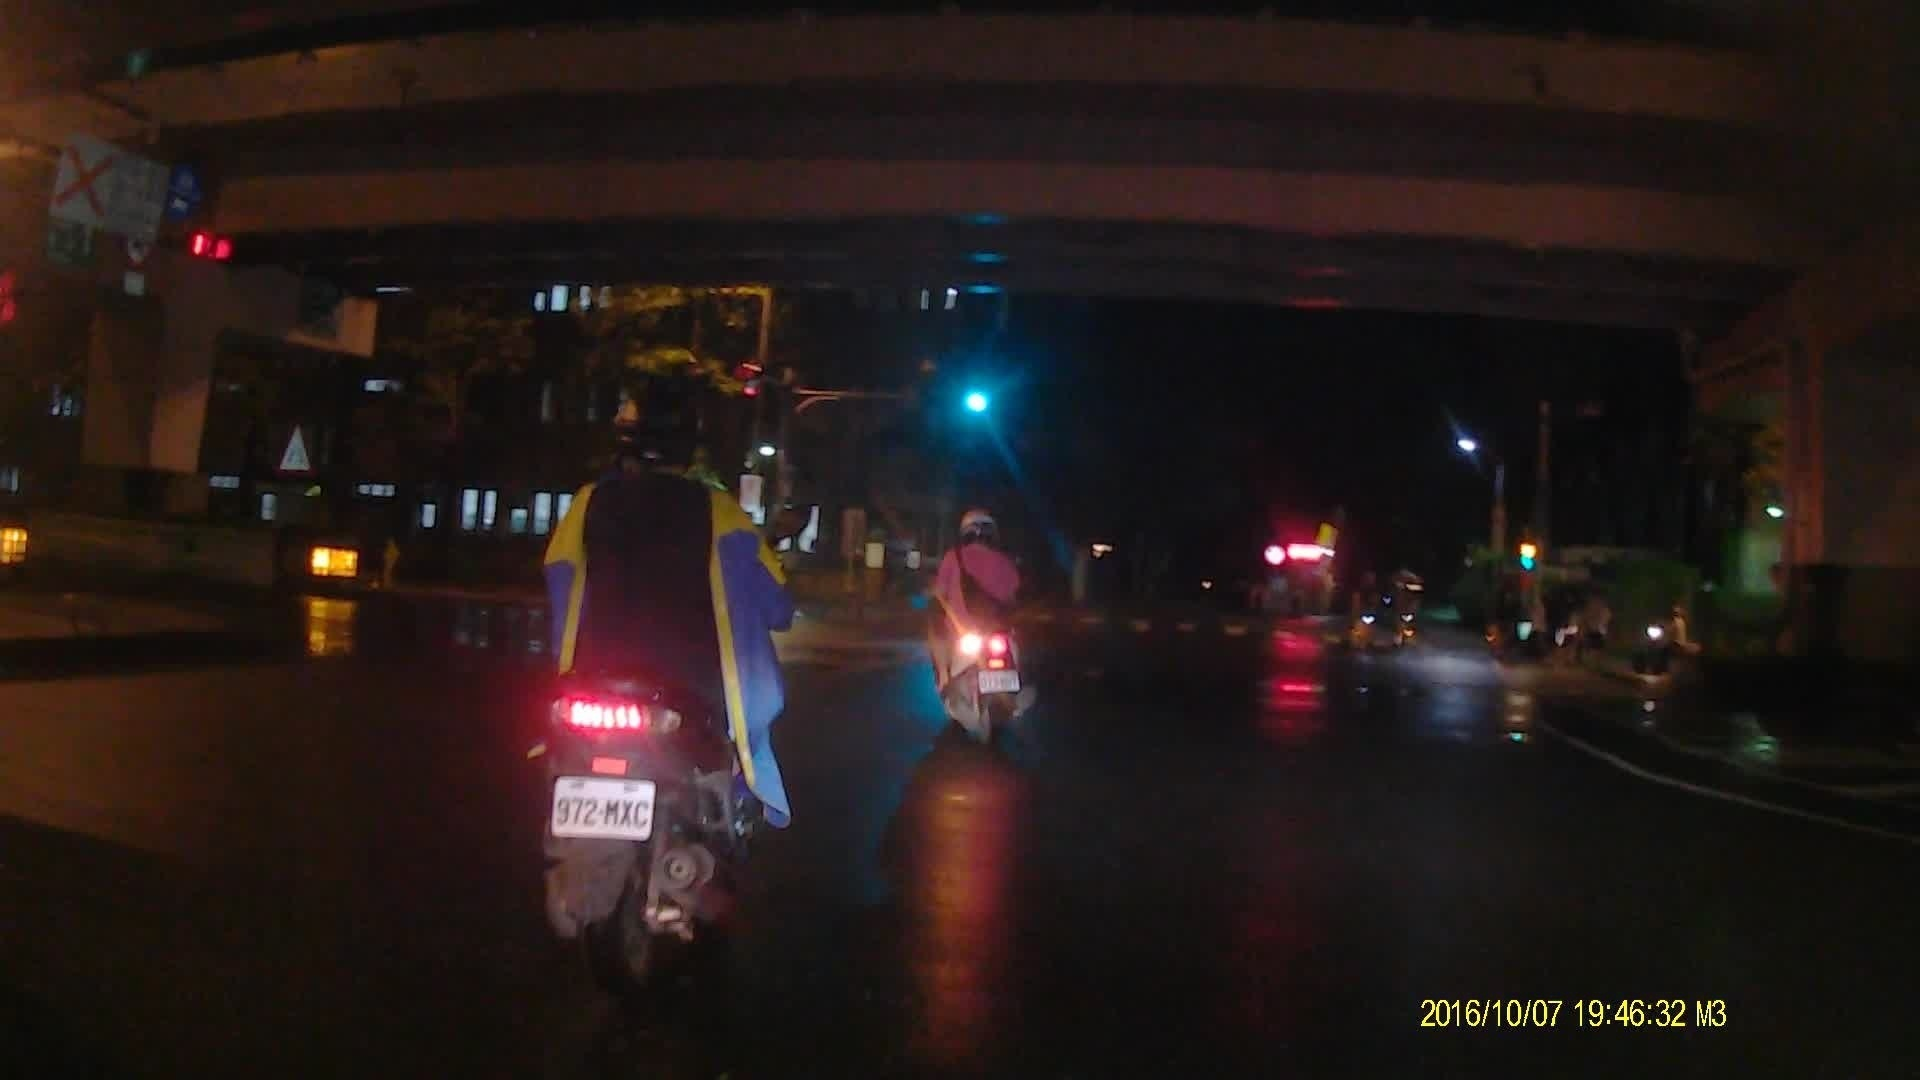License_plate: (549, 774, 655, 845), (978, 671, 1027, 691)
